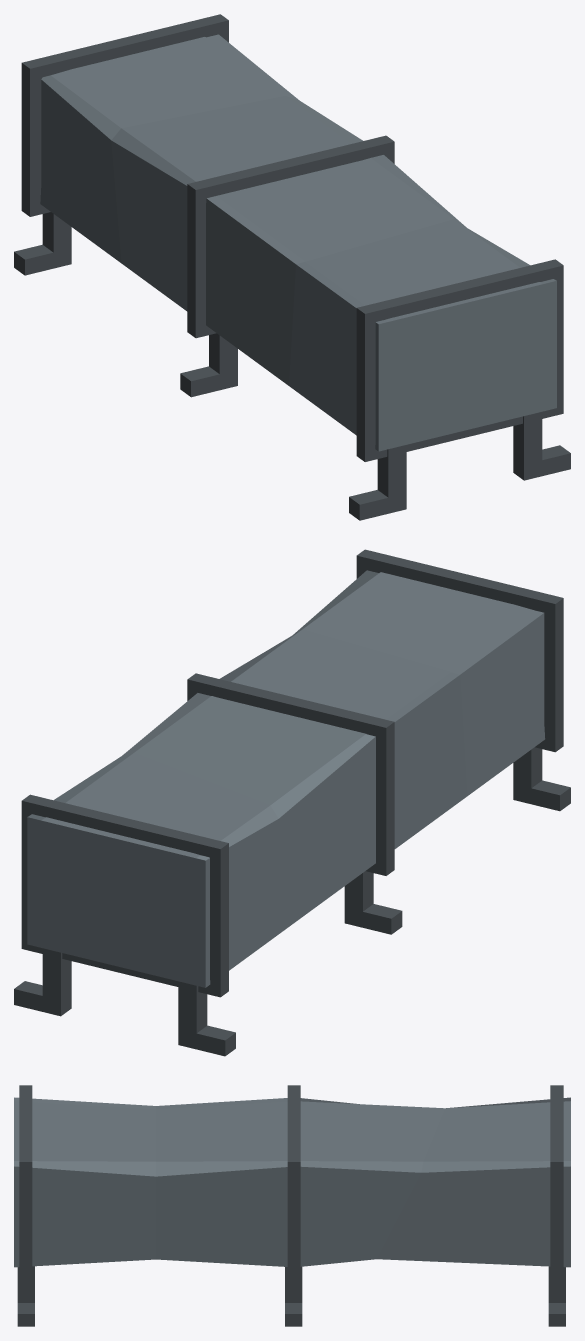
File: SM_Prop_Vents_Straight_01.glb
3 renders of one model, top to bottom at view 1: azimuth 30°, elevation 25°; view 2: azimuth 150°, elevation 25°; view 3: azimuth 270°, elevation 25°, orthographic. The views are drawn at different scales.
Parts seen in each view (by area): view 1: SM_Prop_Vents_Straight_01; view 2: SM_Prop_Vents_Straight_01; view 3: SM_Prop_Vents_Straight_01.
Boxes of the visible parts, x1,y1,x2,y2 form: SM_Prop_Vents_Straight_01: (14, 14, 570, 520); SM_Prop_Vents_Straight_01: (14, 549, 570, 1056); SM_Prop_Vents_Straight_01: (14, 1085, 570, 1326).
Size of the model in its own units: 0.00868 by 0.00803 by 0.025.
1 material, 1 textured.
